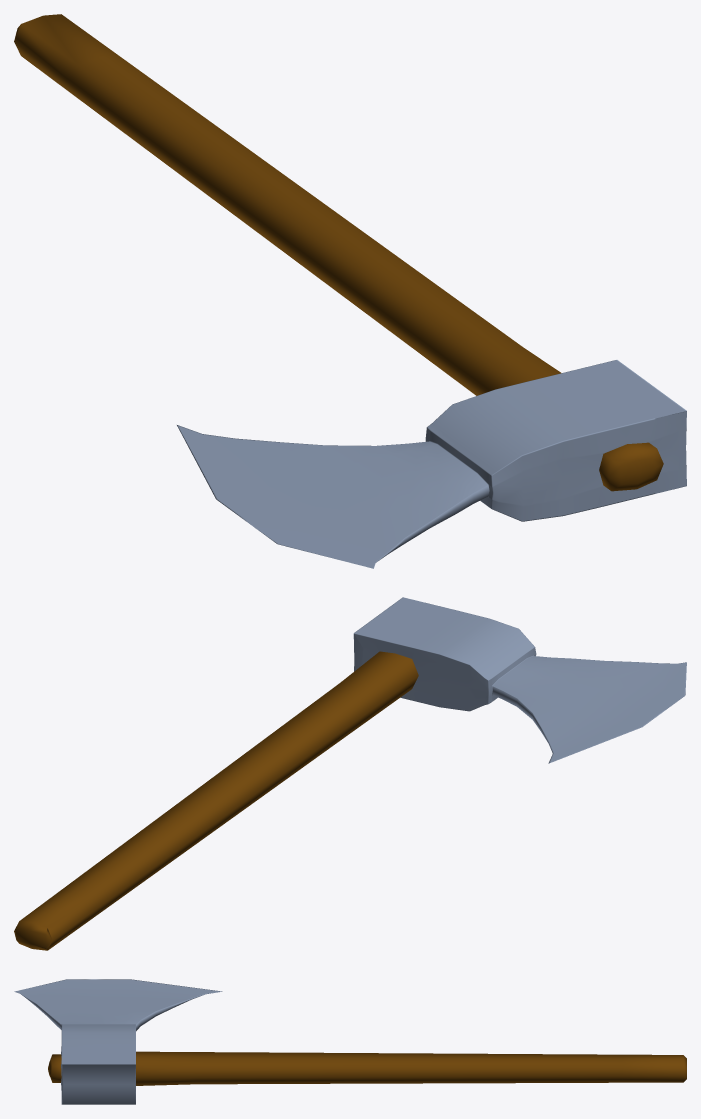
File: axe.fbx
3 views of the same model, one above another, from view 1: azimuth 30°, elevation 25°; view 2: azimuth 150°, elevation 25°; view 3: azimuth 270°, elevation 25° (orthographic). The views are drawn at different scales.
Visible parts, largest first — view 1: axe; view 2: axe; view 3: axe.
Boxes of the visible parts, box(x1,y1,x2,y2) form: axe: box(14, 14, 686, 568); axe: box(14, 597, 686, 950); axe: box(14, 979, 686, 1104).
Size of the model in its own units: 32.05 by 5.69 by 86.71.
